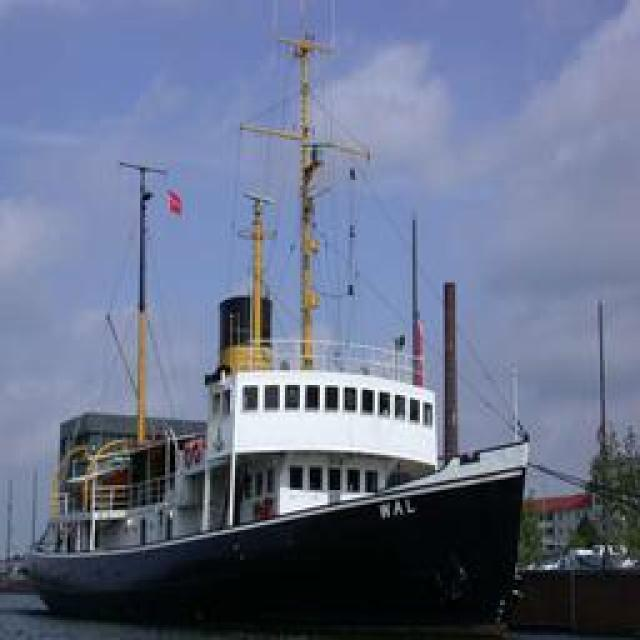ship2: (27, 39, 531, 629)
